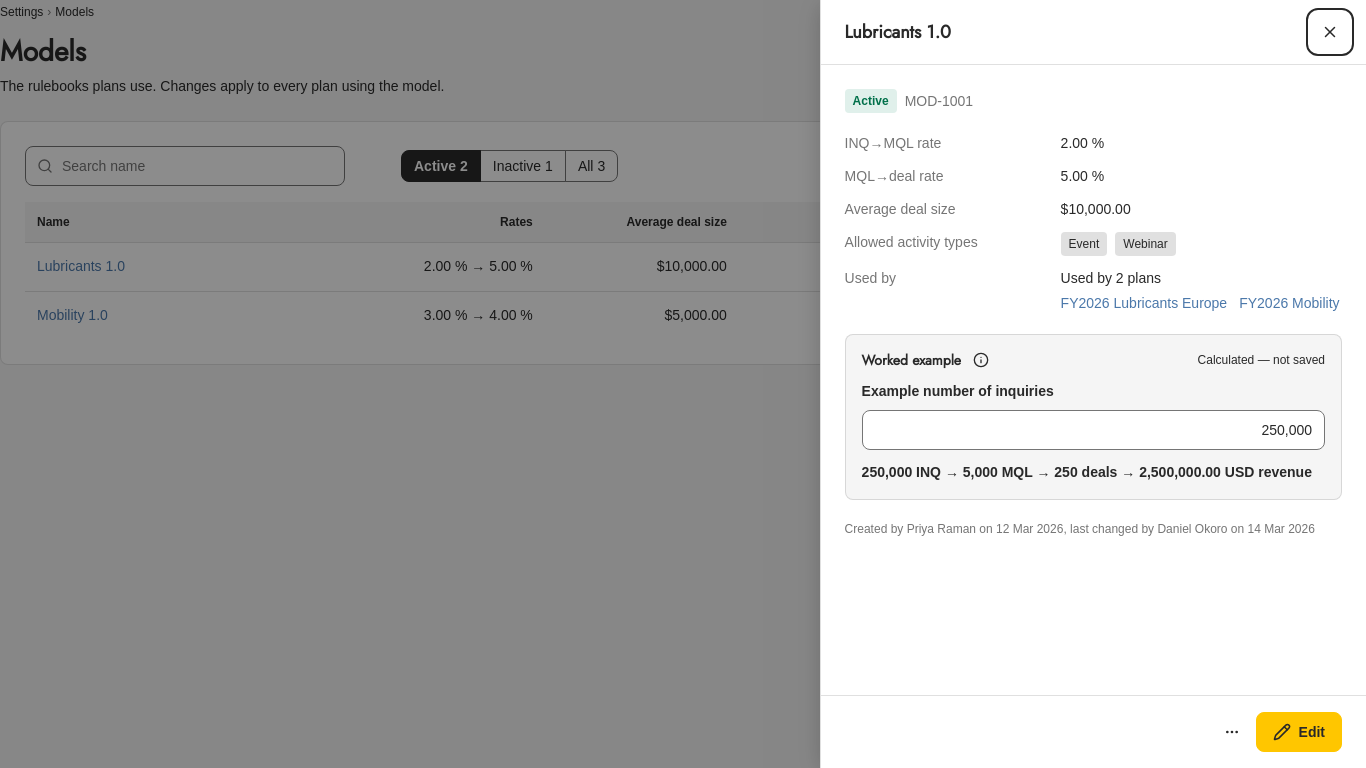
ModelsPage: details (US1 scenario 3) › Duplicate opens an unsaved new model named "<name> (copy)" (FR-009)
This screenshot has width=1366, height=768.
Expected: the dialog "Lubricants 1.0" is shown, [820,0,1365,767]
Click the button named "Actions for Lubricants 1.0".
click(1232, 732)  # box [1216,716,1248,748]
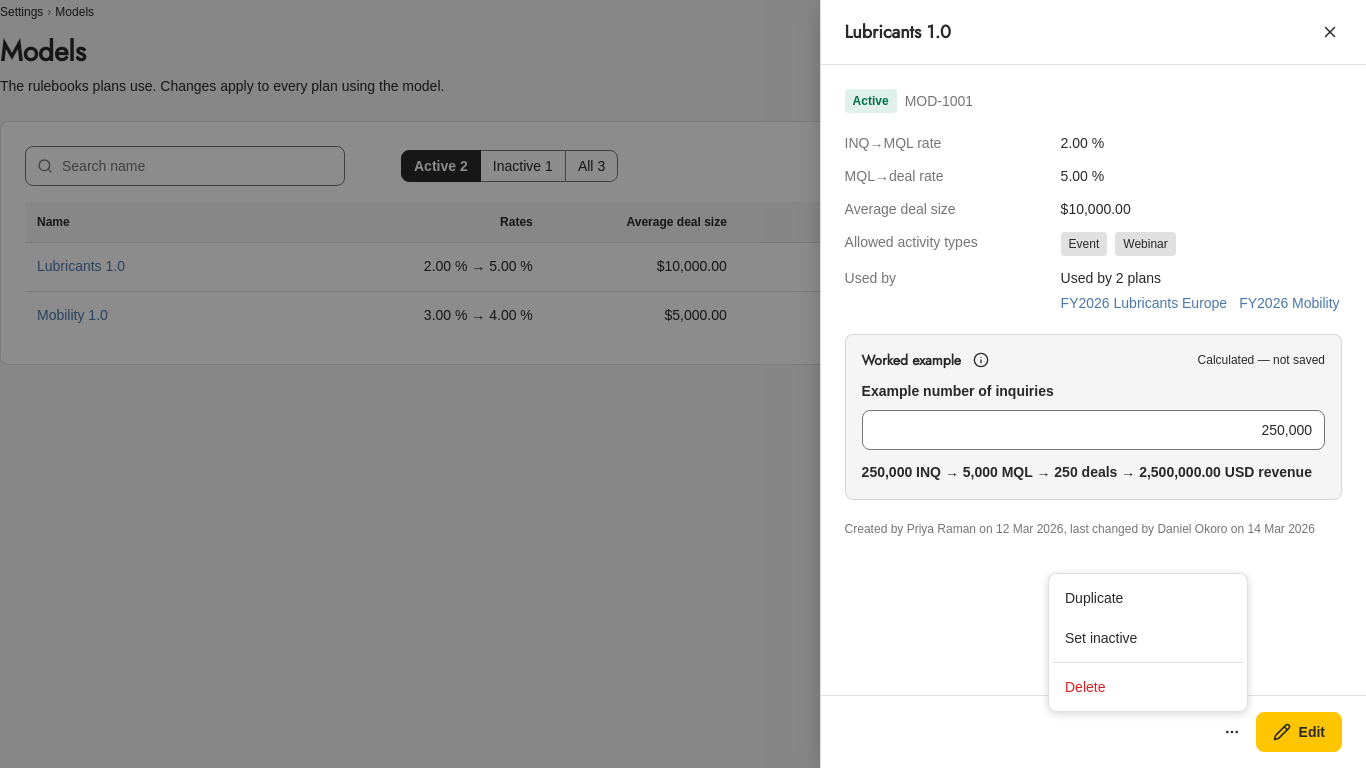
Click the menu item "Duplicate".
click(1094, 598)  # box [1065,590,1123,606]
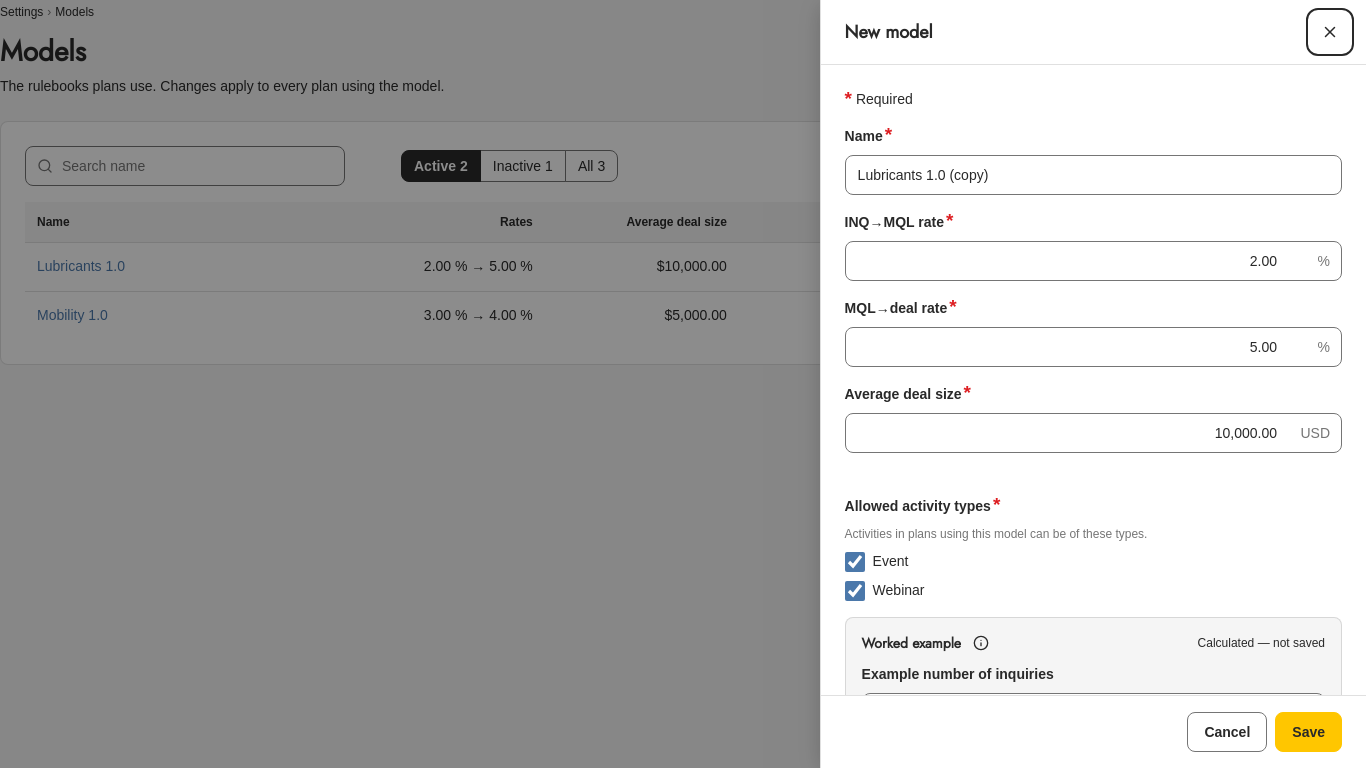
Result: the field labelled "Name" holds "Lubricants 1.0 (copy)" at [845,155,1342,195]
Result: the field labelled "INQ→MQL rate" holds "2.00" at [845,241,1342,281]
Result: the checkbox labelled "Event" is checked at [845,552,865,572]
